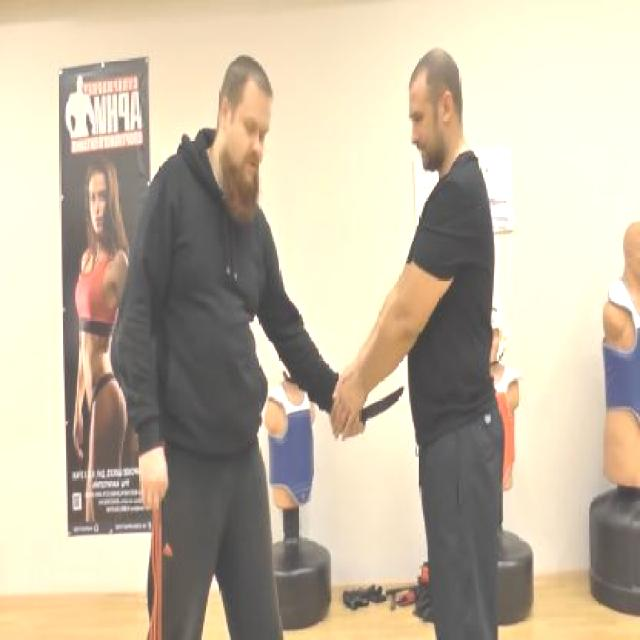knife: (329, 380, 406, 443)
